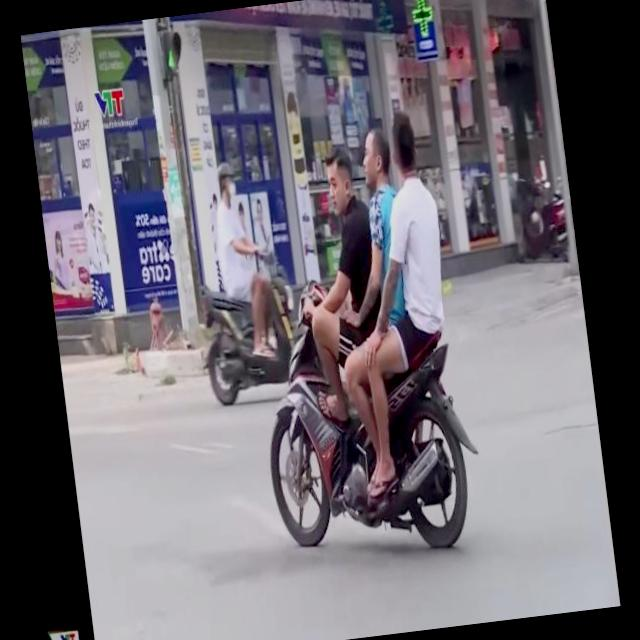motorcycle: (238, 259, 492, 559)
person: (378, 105, 464, 404), (302, 138, 386, 378), (350, 117, 420, 394)
rider_region: (224, 107, 491, 572)
